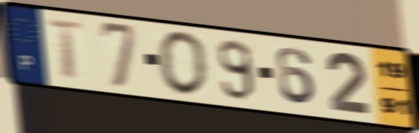2: (324, 49, 374, 118)
6: (274, 46, 318, 107)
7: (98, 18, 140, 92)
9: (215, 38, 256, 102)
O: (155, 28, 210, 98)
T: (45, 17, 88, 83)
